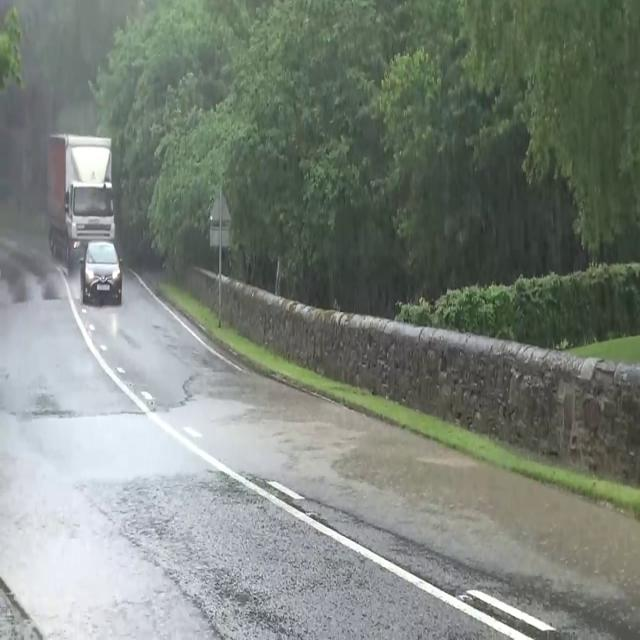license-plate-annotation: (97, 282, 112, 294)
